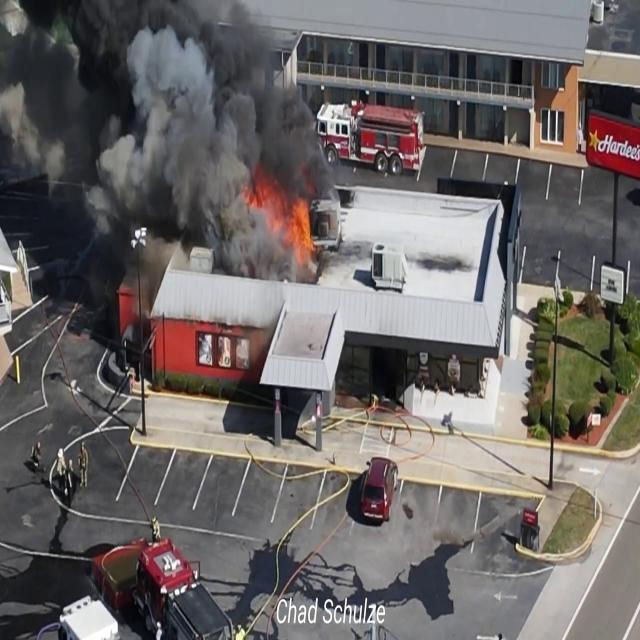Fire: (250, 176, 320, 272)
Smoke: (0, 0, 335, 262)
